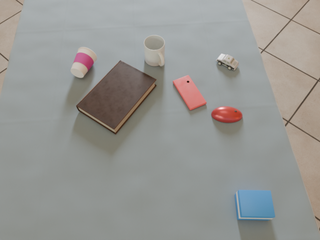book: (76, 60, 156, 134)
box: (235, 190, 275, 220)
cup: (71, 47, 97, 78), (144, 35, 165, 66)
mouse: (211, 106, 242, 123)
phone: (173, 75, 206, 110)
toy_car: (216, 54, 239, 70)
